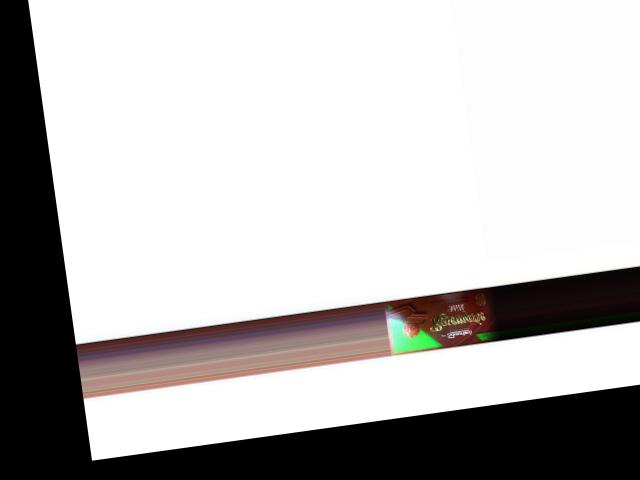chocolate: (385, 286, 501, 353)
